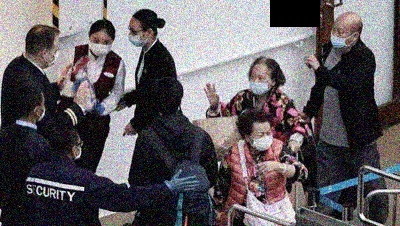with_mask: (250, 126, 274, 153), (89, 35, 113, 57), (248, 71, 269, 96), (127, 25, 147, 49), (330, 24, 350, 48), (46, 44, 61, 69), (36, 98, 47, 121), (75, 139, 84, 160)
